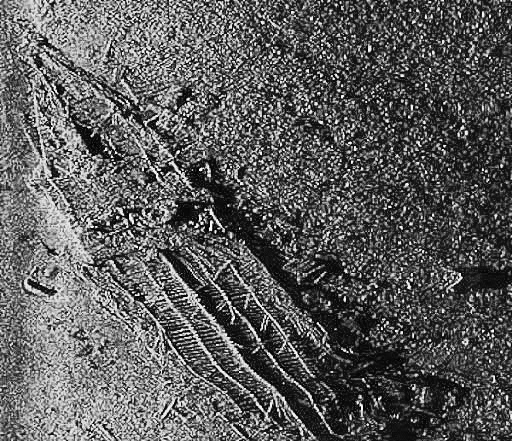ship: (5, 15, 403, 441)
